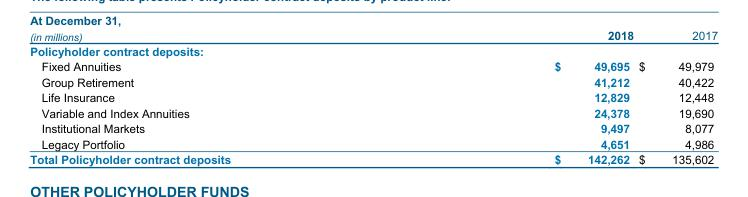table: (29, 28, 717, 165)
table column: (29, 28, 391, 165), (391, 28, 635, 165), (635, 28, 717, 165)
table column header: (29, 28, 717, 43)
table projected row header: (29, 43, 717, 58)
table row: (29, 73, 717, 89), (29, 104, 717, 120), (29, 135, 717, 151), (29, 28, 717, 43), (29, 43, 717, 58), (29, 58, 717, 73), (29, 89, 717, 104), (29, 120, 717, 135), (29, 151, 717, 165)
